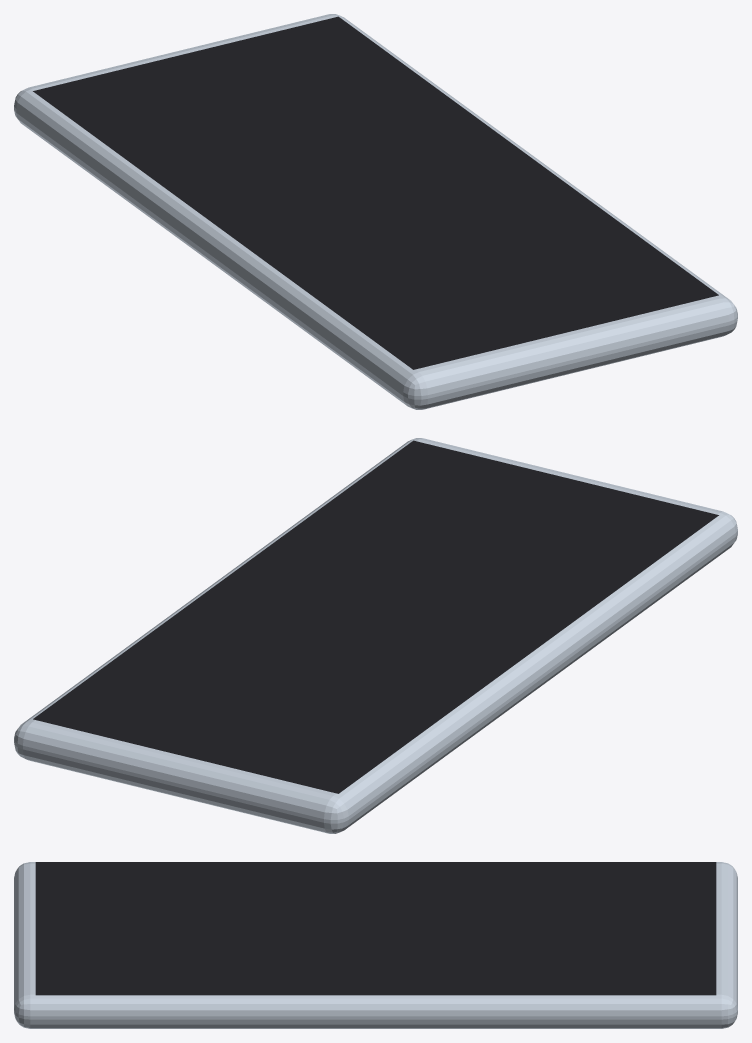
The model's file is infinix-gen-2022-flagship-2022.glb.
3 views of the same model, one above another, from view 1: azimuth 30°, elevation 25°; view 2: azimuth 150°, elevation 25°; view 3: azimuth 270°, elevation 25° (orthographic). The views are drawn at different scales.
Parts seen in each view (by area): view 1: Phone_Screen, Phone_Body; view 2: Phone_Screen, Phone_Body; view 3: Phone_Screen, Phone_Body.
Part boxes in pixels (x1,y1,x2,y2): Phone_Screen: [33, 16, 718, 369]; Phone_Body: [14, 14, 737, 409]; Phone_Screen: [33, 440, 718, 793]; Phone_Body: [14, 438, 737, 833]; Phone_Screen: [35, 862, 716, 995]; Phone_Body: [14, 862, 737, 1028].
Bounding box in the file's own units: 0.0752 × 0.008 × 0.1587.
